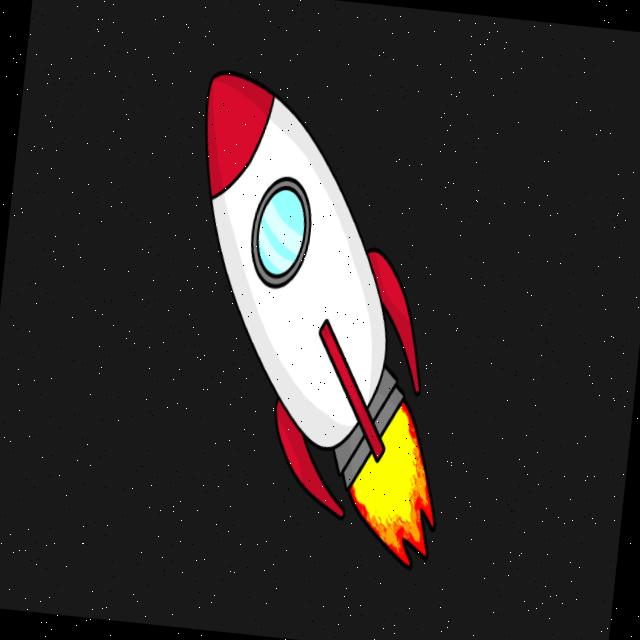rocket: (198, 59, 430, 527)
